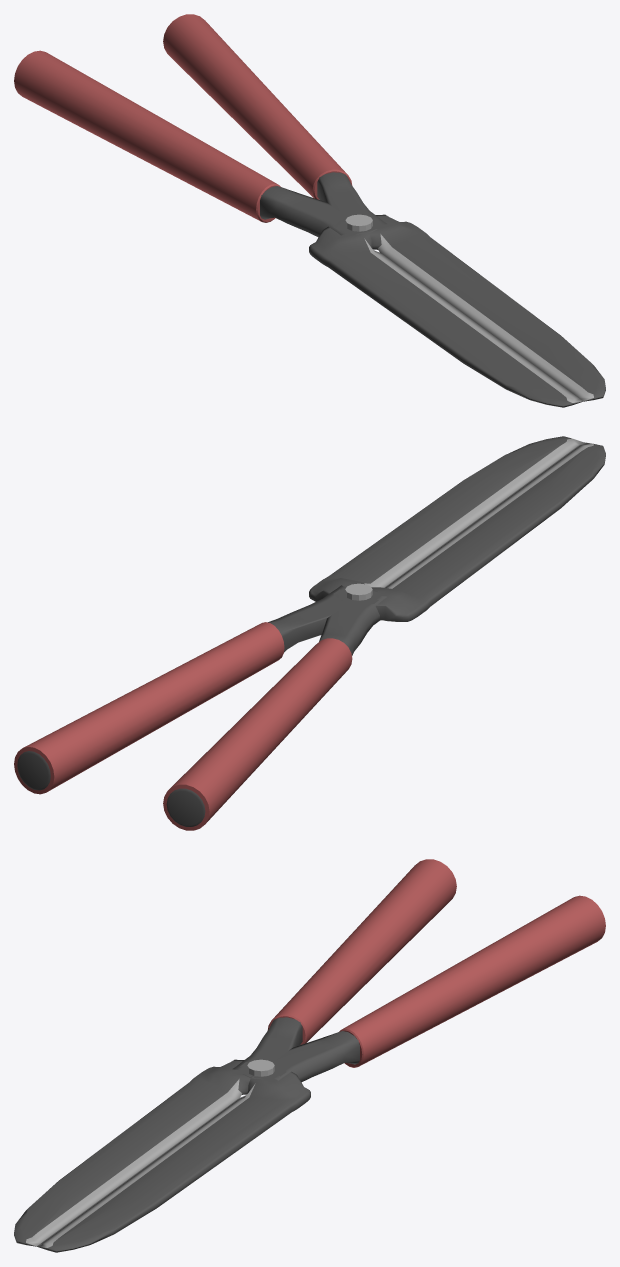
File: Clippers.fbx
3 renders of one model, top to bottom at view 1: azimuth 30°, elevation 25°; view 2: azimuth 150°, elevation 25°; view 3: azimuth 330°, elevation 25°, orthographic.
Parts seen in each view (by area): view 1: Clipper_R6, Clipper_L; view 2: Clipper_L, Clipper_R6; view 3: Clipper_L, Clipper_R6.
Part boxes in pixels (x1,y1,x2,y2): Clipper_R6: [14, 50, 605, 401]; Clipper_L: [163, 14, 582, 407]; Clipper_L: [14, 442, 605, 794]; Clipper_R6: [163, 436, 582, 830]; Clipper_L: [14, 895, 605, 1246]; Clipper_R6: [37, 859, 456, 1252].
Bounding box in the file's own units: 18.81 × 4.21 × 79.16.
